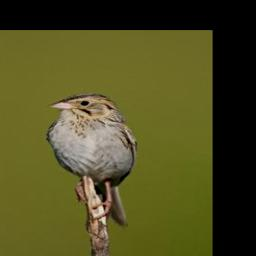Sparrow: (45, 91, 138, 227)
